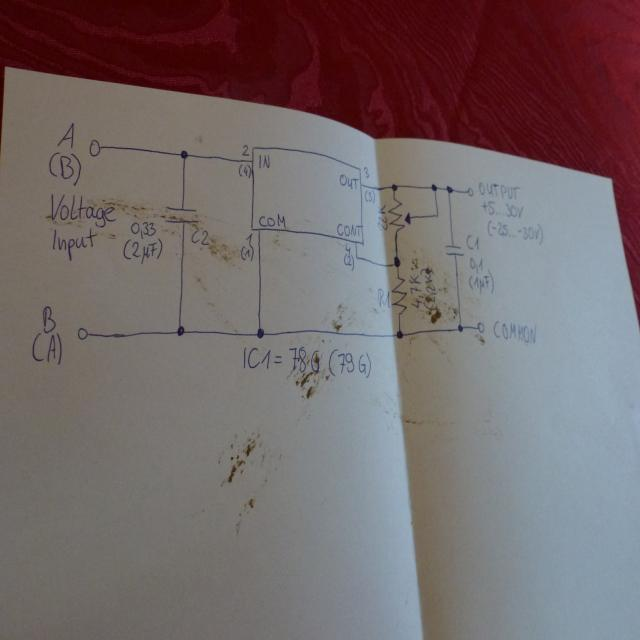capacitor: (161, 204, 201, 227), (443, 242, 463, 256)
junction: (255, 324, 265, 340), (392, 253, 402, 268), (175, 324, 185, 337), (178, 148, 188, 160), (395, 328, 404, 339), (444, 183, 453, 193), (430, 182, 438, 192), (390, 182, 398, 191), (457, 323, 463, 332), (434, 210, 440, 218), (354, 253, 358, 260)
resistor: (388, 195, 412, 237), (390, 273, 408, 316)
terminal: (87, 136, 102, 157), (75, 324, 88, 340), (475, 320, 485, 334), (464, 187, 476, 198)
text: (241, 344, 372, 381), (46, 192, 118, 228), (49, 226, 97, 260), (484, 219, 544, 243), (490, 318, 538, 345), (47, 150, 82, 187), (31, 331, 64, 367), (120, 236, 162, 262), (477, 178, 521, 199), (419, 266, 438, 310), (480, 200, 525, 218), (466, 270, 494, 294), (55, 119, 76, 150), (190, 226, 213, 249), (40, 303, 57, 334), (409, 273, 423, 310), (129, 220, 156, 238), (336, 221, 361, 240), (258, 213, 286, 227), (376, 203, 388, 233), (375, 286, 390, 309), (339, 173, 357, 190), (464, 232, 480, 251), (468, 255, 485, 272), (239, 244, 254, 262), (256, 152, 271, 169), (343, 253, 355, 271), (238, 162, 250, 178), (364, 189, 376, 204), (240, 144, 249, 158), (244, 232, 253, 245), (362, 165, 370, 178), (344, 242, 352, 255)
